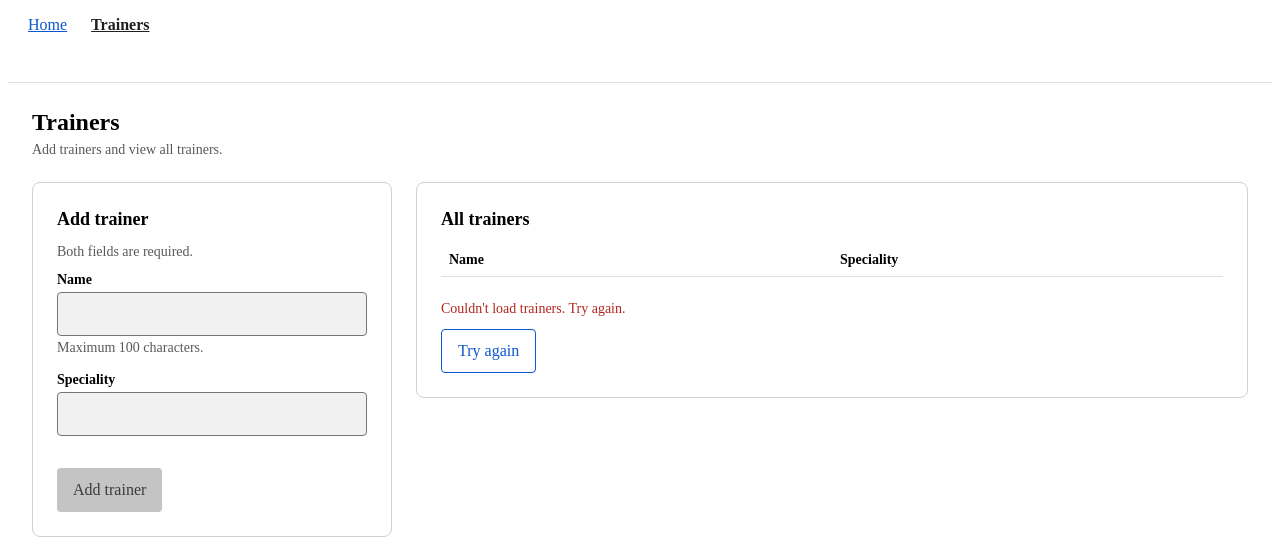
Test: GMS navigation (FIT-941 AC-001) › a load failure (e.g. signed out) shows Load Error and leaves navigation usable (AC-005, NFR-005)
The image size is (1280, 554).
Expected: the text "Couldn't load trainers. Try again." is shown, [441, 301, 626, 316]
Click the link "Home" at (48, 24), box [28, 16, 67, 33]
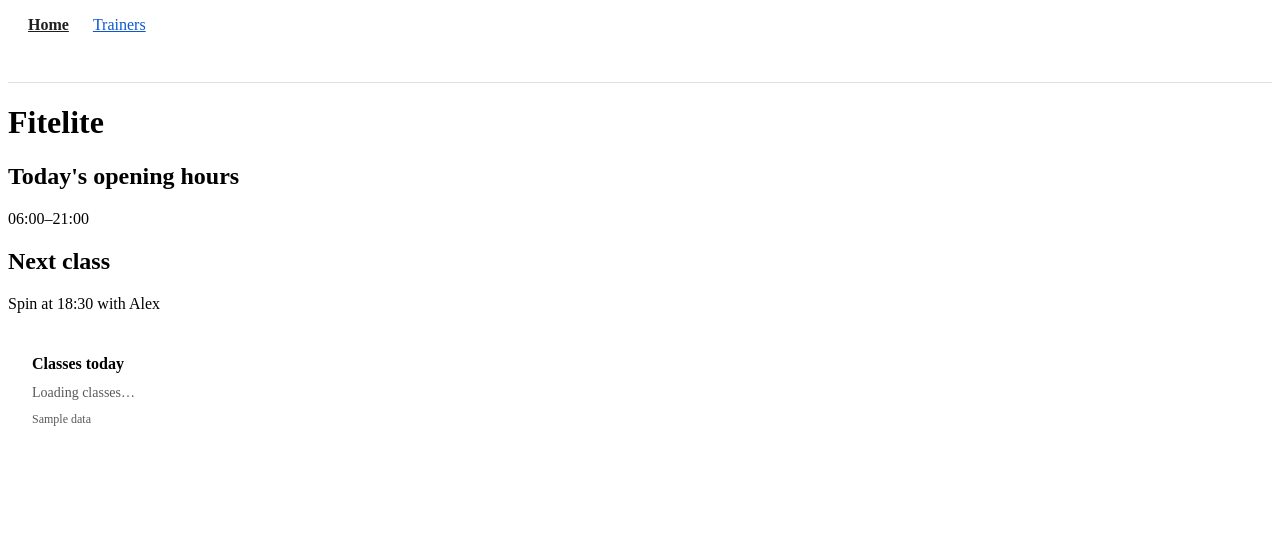
Result: the heading "Fitelite" is shown at [8, 104, 104, 140]
